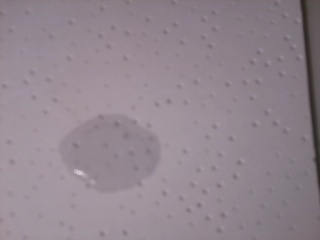Water_detected: (70, 121, 154, 188)
